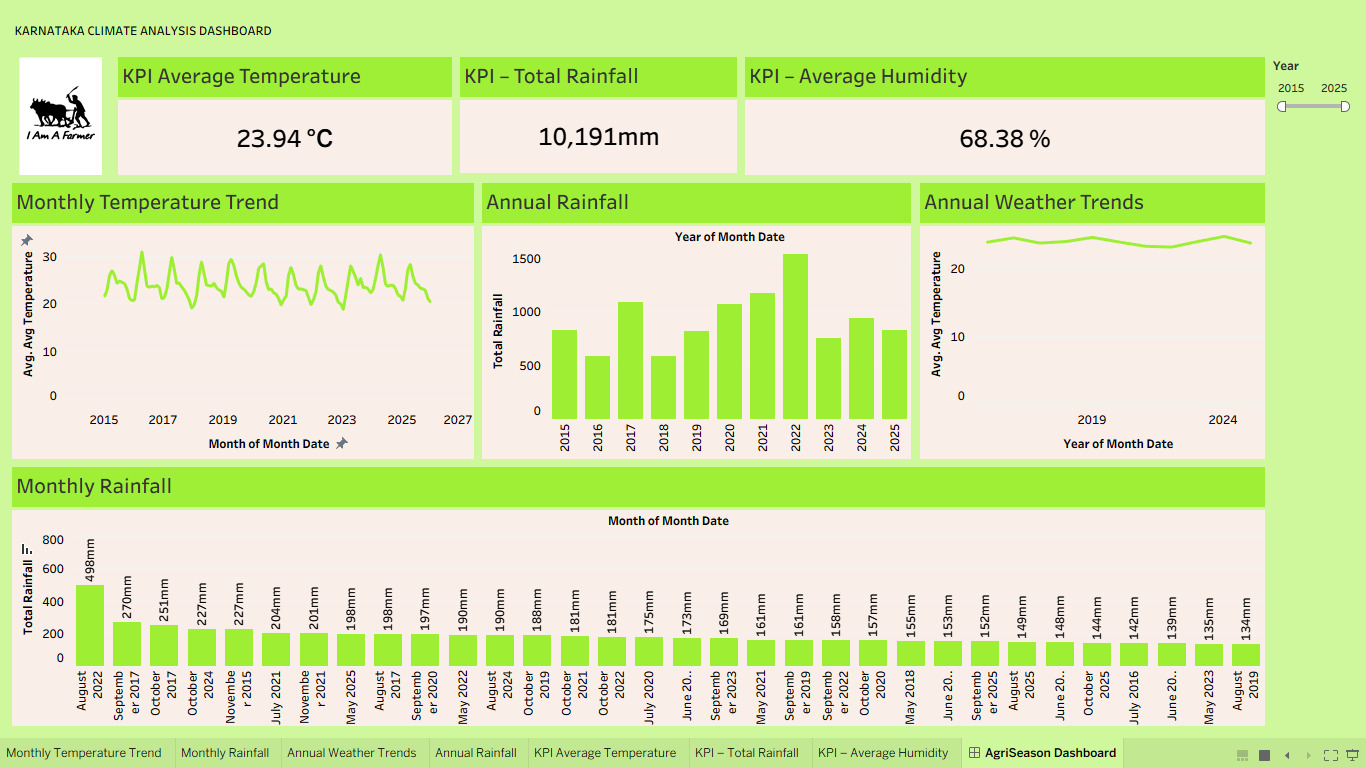

The page's visual inventory and layout, read from the dashboard file:
{"tool":"tableau","page":{"name":"AgriSeason Dashboard","canvas":[1000,1000],"units":"permille","ordinal":0},"visuals":[{"type":"text","box":[7.1,15.1,985.8,60.3]},{"type":"image","param":"C:/Users/ELCOT/Downloads/farmar.jpg","box":[7.1,75.4,75.9,169.8]},{"type":"worksheet","title":"KPI Average Temperature","mark":"Automatic","box":[83,75.4,246.1,169.8]},{"type":"worksheet","title":"KPI – Total Rainfall","mark":"Automatic","box":[329.1,75.4,205,169.8]},{"type":"worksheet","title":"KPI – Average Humidity","mark":"Automatic","box":[534.1,75.4,379.8,169.8]},{"type":"filter","title":"Annual Weather Trends","param":"[federated.1db4znb0kpdp931go339q18k5u1a].[none:year :qk]","box":[913.9,75.4,79,158.5]},{"type":"worksheet","title":"Monthly Temperature Trend","mark":"Automatic","rows":["avg_temperature "],"cols":["Calculation_1195226883985408"],"box":[7.1,245.2,338.1,381.1]},{"type":"worksheet","title":"Annual Rainfall","mark":"Bar","rows":["total_rainfall "],"cols":["Calculation_1195226883985408"],"box":[345.2,245.2,314.5,381.1]},{"type":"worksheet","title":"Annual Weather Trends","mark":"Line","rows":["avg_temperature "],"cols":["Calculation_1195226883985408"],"box":[659.7,245.2,254.1,381.1]},{"type":"worksheet","title":"Monthly Rainfall","mark":"Bar","rows":["total_rainfall "],"cols":["Calculation_1195226883985408"],"box":[7.1,626.3,906.8,358.6]}]}

Visuals, with their boxes on the dashboard's canvas, which has no fixed pixel size, in thousandths of its width and height (x1, y1, x2, y2). These are canvas units, not pixel positions in the 1366x768 screenshot, which may show the page scaled, cropped or inside an application window:
text: [x1=7, y1=15, x2=993, y2=75]
image: [x1=7, y1=75, x2=83, y2=245]
"KPI Average Temperature" worksheet: [x1=83, y1=75, x2=329, y2=245]
"KPI – Total Rainfall" worksheet: [x1=329, y1=75, x2=534, y2=245]
"KPI – Average Humidity" worksheet: [x1=534, y1=75, x2=914, y2=245]
"Annual Weather Trends" filter: [x1=914, y1=75, x2=993, y2=234]
"Monthly Temperature Trend" worksheet: [x1=7, y1=245, x2=345, y2=626]
"Annual Rainfall" worksheet (Bar marks): [x1=345, y1=245, x2=660, y2=626]
"Annual Weather Trends" worksheet (Line marks): [x1=660, y1=245, x2=914, y2=626]
"Monthly Rainfall" worksheet (Bar marks): [x1=7, y1=626, x2=914, y2=985]
